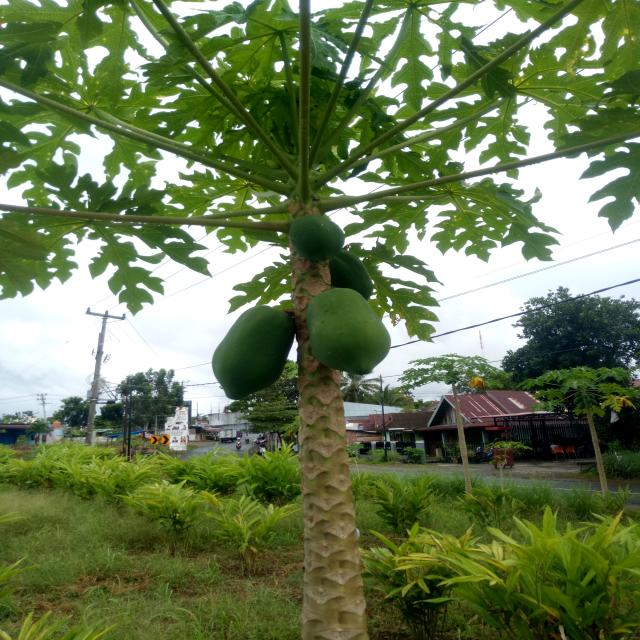Pepaya unrippen: (284, 293, 388, 383), (208, 316, 294, 393), (298, 208, 348, 262)
